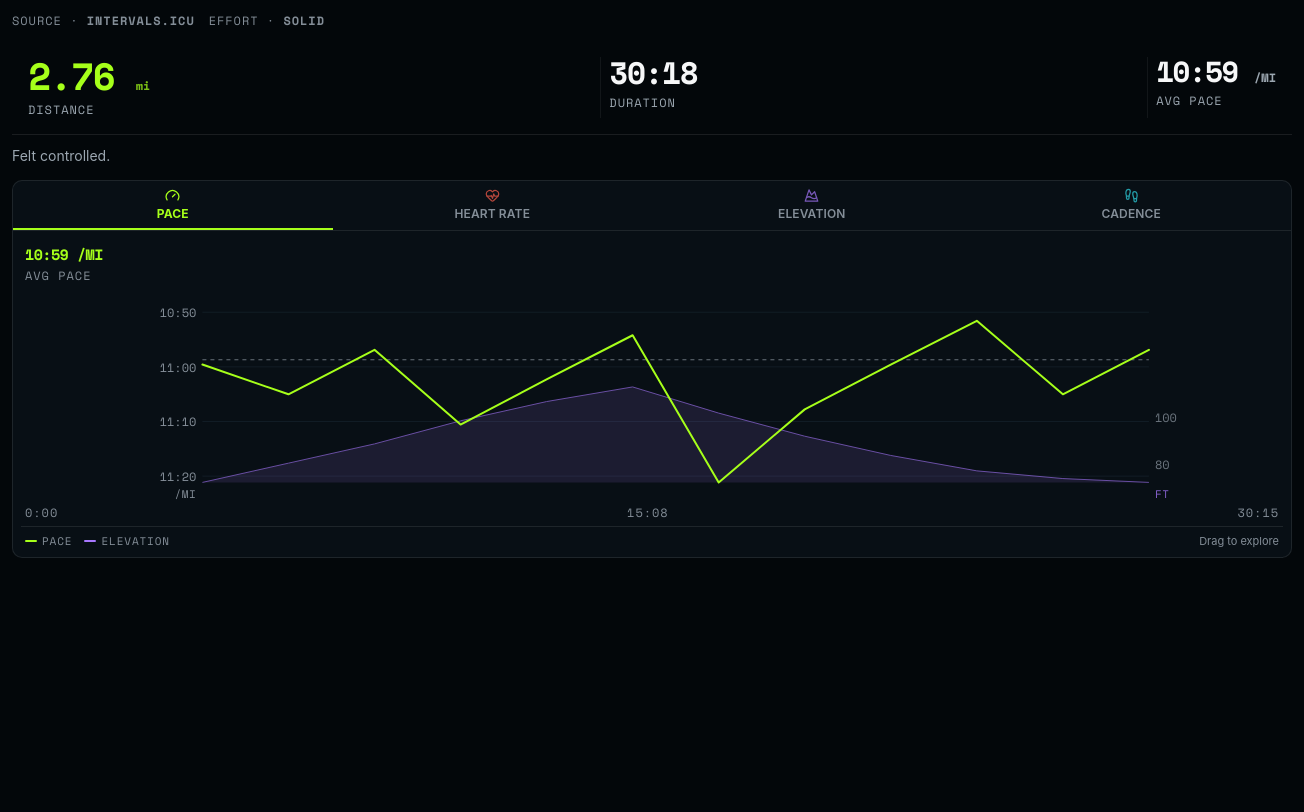
connected run result › keeps Gain as the source's own climbing total rather than anything recomputed from altitude
Click the button "Elevation". click: (812, 205)
box: [652,181,972,230]
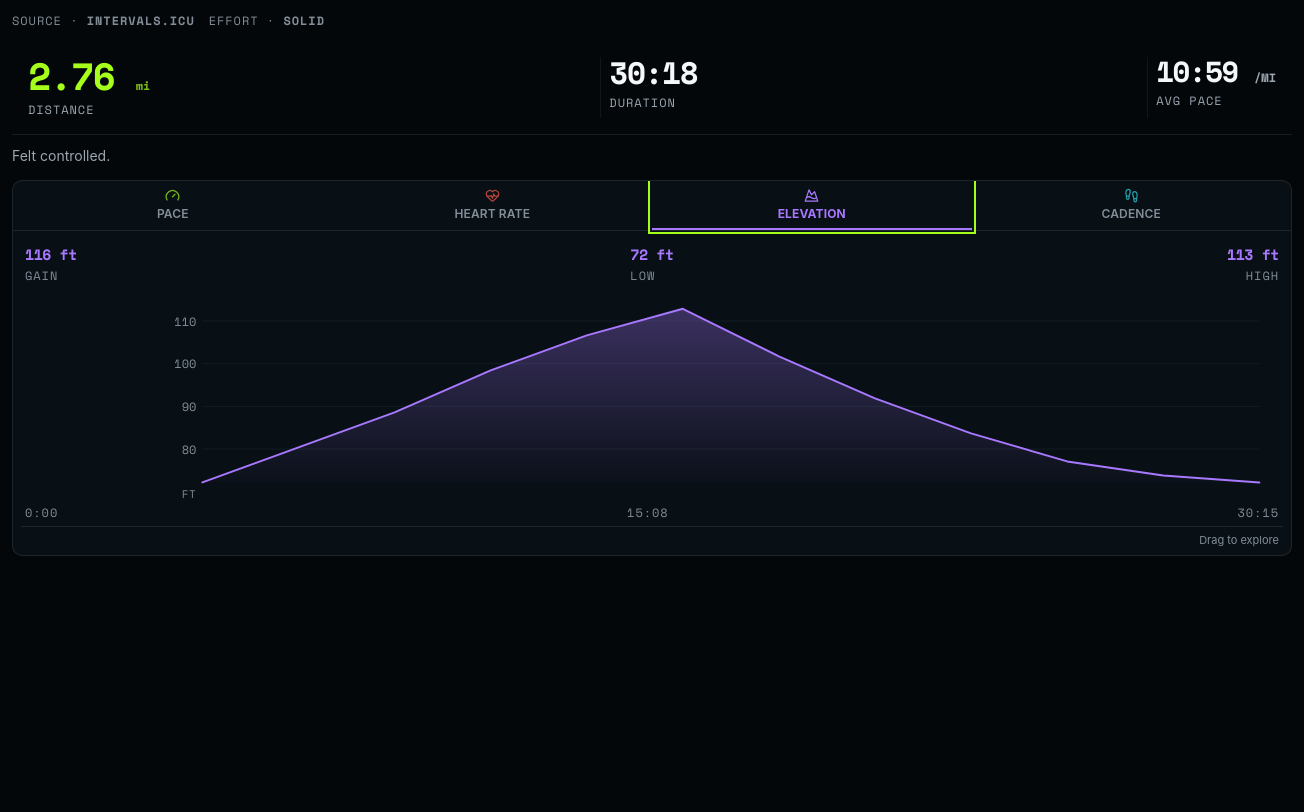
Expected: the element with class "run-analysis__facts" shows "116 ft", [25,243,77,265]
Expected: the element with class "run-analysis__facts" shows "Gain", [25,267,58,284]
